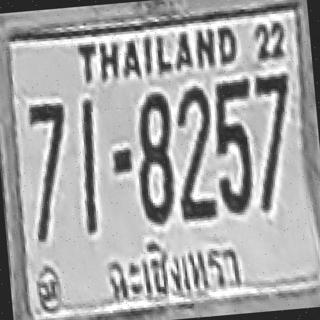N01: (76, 99, 102, 215)
N02: (171, 85, 217, 208), (170, 84, 216, 197)
N05: (208, 78, 259, 212)
N07: (248, 70, 298, 210), (24, 100, 74, 240), (26, 100, 73, 228), (252, 70, 297, 198), (27, 101, 69, 185), (254, 72, 293, 151)
N08: (131, 91, 178, 223)
P07: (102, 228, 248, 308)
